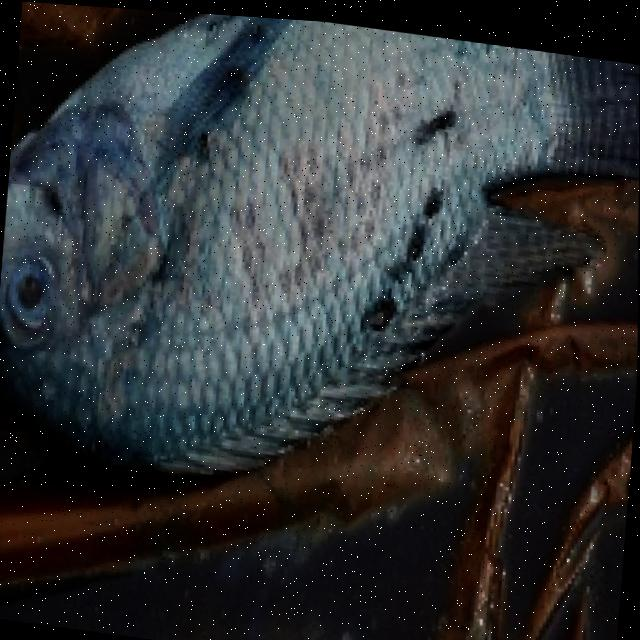Non-Fresh: (108, 6, 508, 399), (0, 229, 120, 359)
